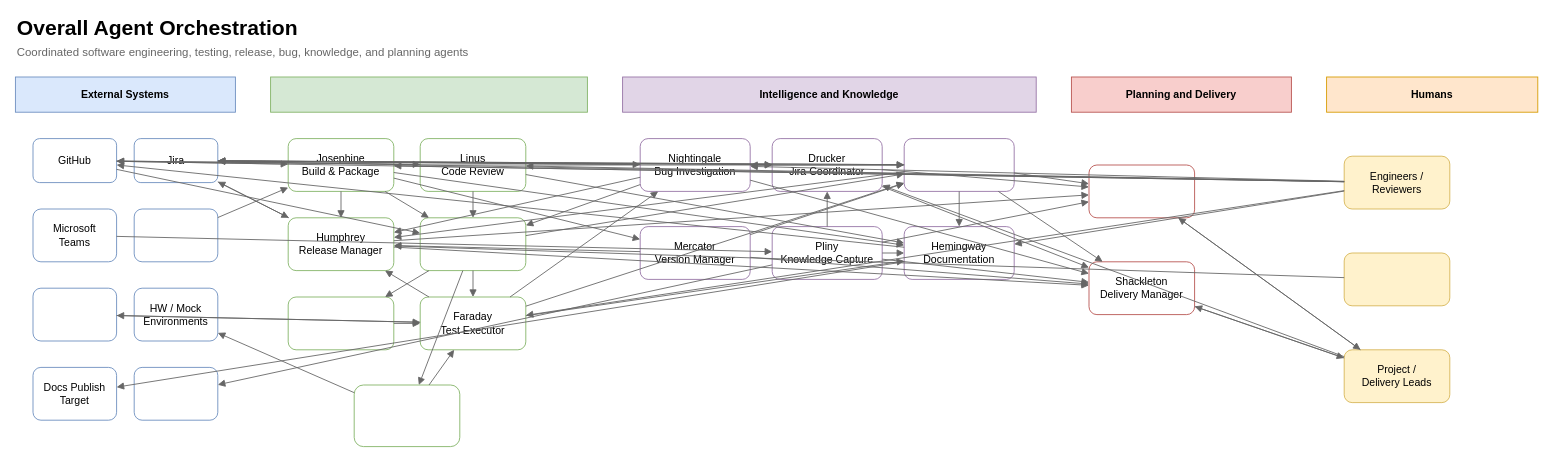
This 1553x462 diagram has some shape labels left out. Each missing label, with the centre of its shape:
Berners-Lee Traceability: point (958, 164)
Curie Test Generator: point (340, 323)
Execution Spine: point (428, 94)
Fuze Config / Build Maps: point (175, 235)
Fuze Test / ATF: point (74, 314)
Galileo Test Planner: point (472, 244)
Gantt Project Planner: point (1141, 191)
Knowledge Store: point (175, 393)
Release Approvers: point (1396, 279)
Tesla Environment Manager: point (406, 415)
